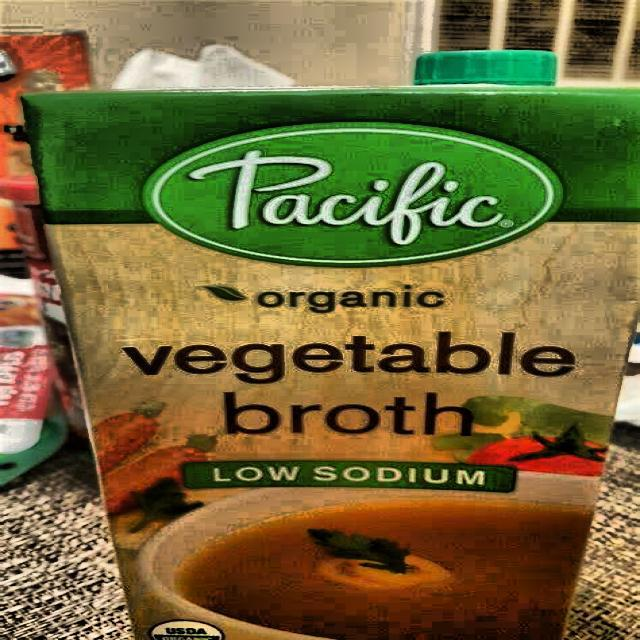cardboard: (18, 82, 638, 638)
